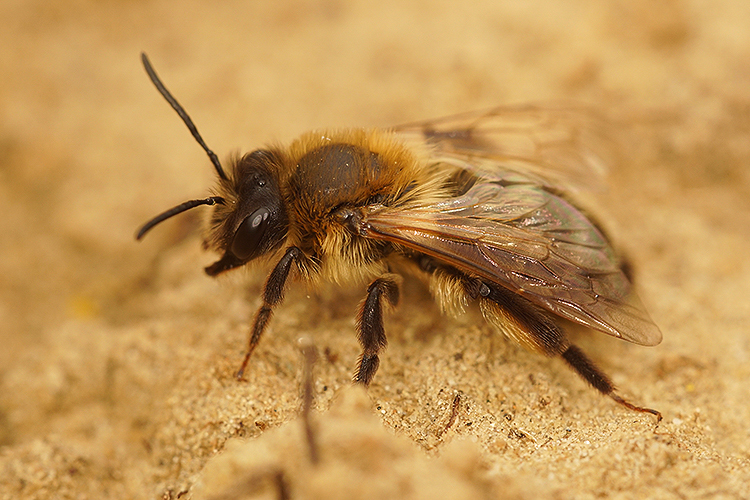not_bumblebee: (133, 50, 665, 428)
